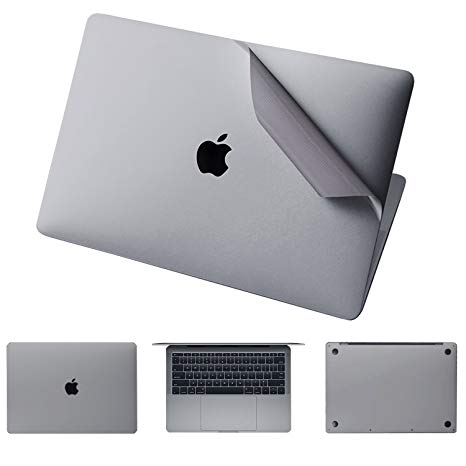apple: (195, 131, 249, 179), (61, 375, 86, 404)
